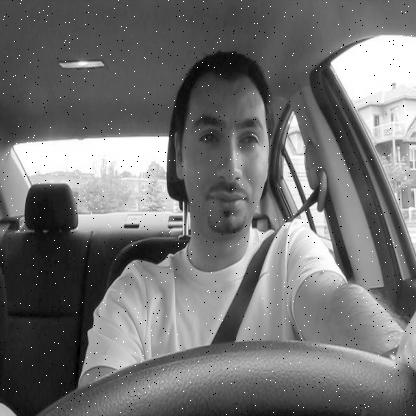seatbelt: (150, 39, 283, 343)
